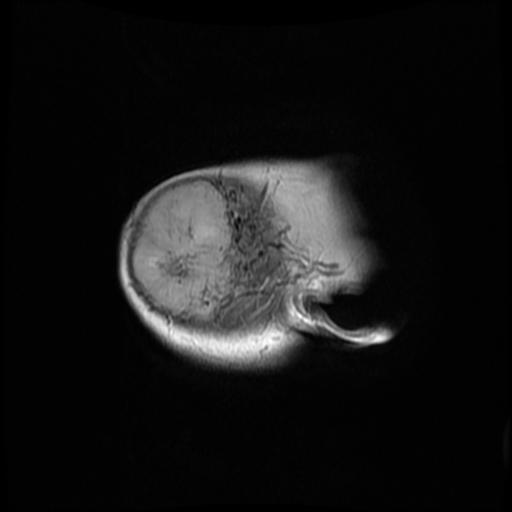meningioma: (132, 182, 232, 316)
